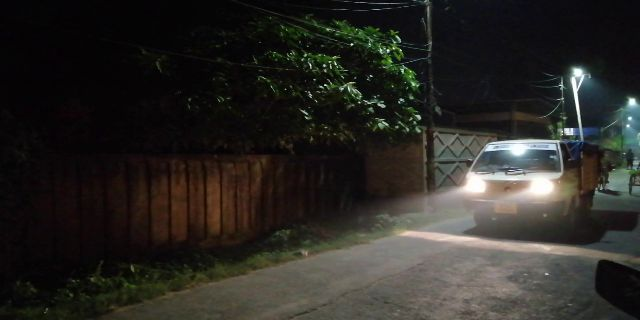Minitruck: (459, 134, 608, 234)
